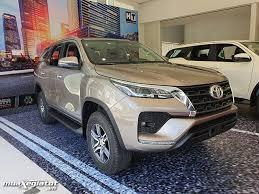toyota: (202, 81, 227, 108)
